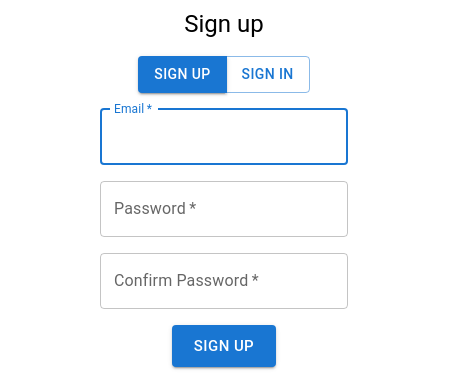
Scenario: <SignUp /> › sign In › Simulate a password error
This screenshot has width=449, height=387.
Click the button with id "signInModeButton": point(268, 75) left=226, top=56, right=310, bottom=93
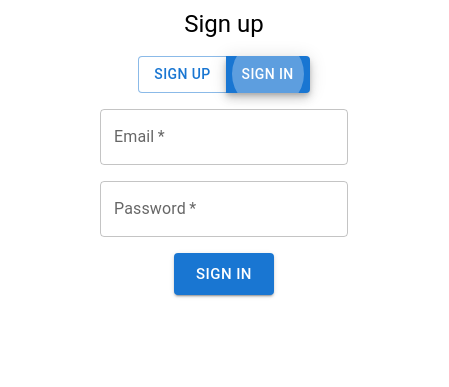
In the field named "email": point(224, 137) left=100, top=109, right=348, bottom=165, type "aaaa@aaaa.com"
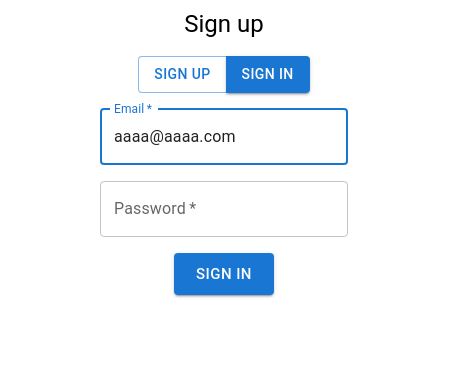
In the password field named "password": point(224, 209) left=100, top=181, right=348, bottom=237, type "psw"
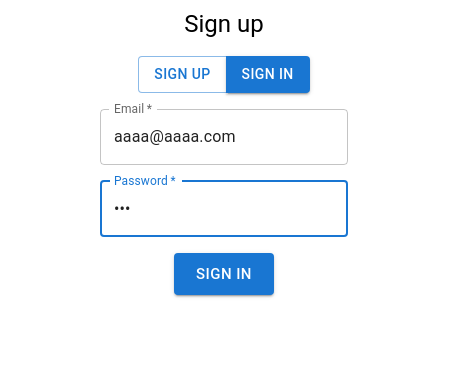
Click the submit button: point(224, 274) left=174, top=253, right=274, bottom=295
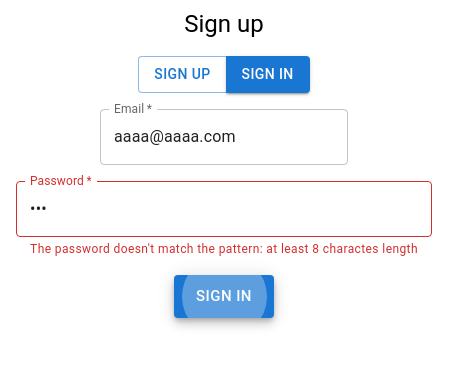
Expected: the text "The password doesn't match the pattern: at least 8 charactes length" is shown, left=30, top=240, right=418, bottom=259
